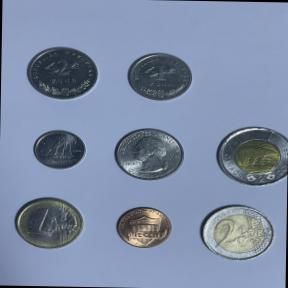1 Euro: (11, 194, 87, 252)
2 Euro: (195, 202, 279, 264)
Canda-10cent-: (30, 127, 92, 172)
Canda-2Dollar-: (212, 123, 288, 189)
Croatia-2Kune-: (24, 45, 102, 102)
US-1cent-: (114, 204, 176, 251)
US-25cent-: (111, 126, 188, 184)
